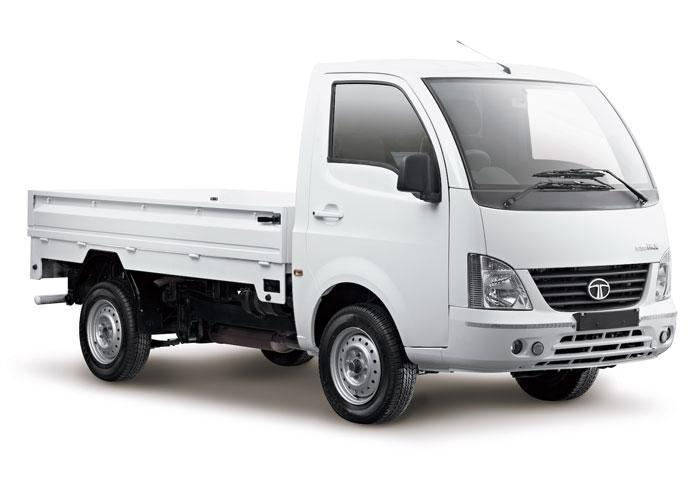truck: (26, 57, 677, 425)
